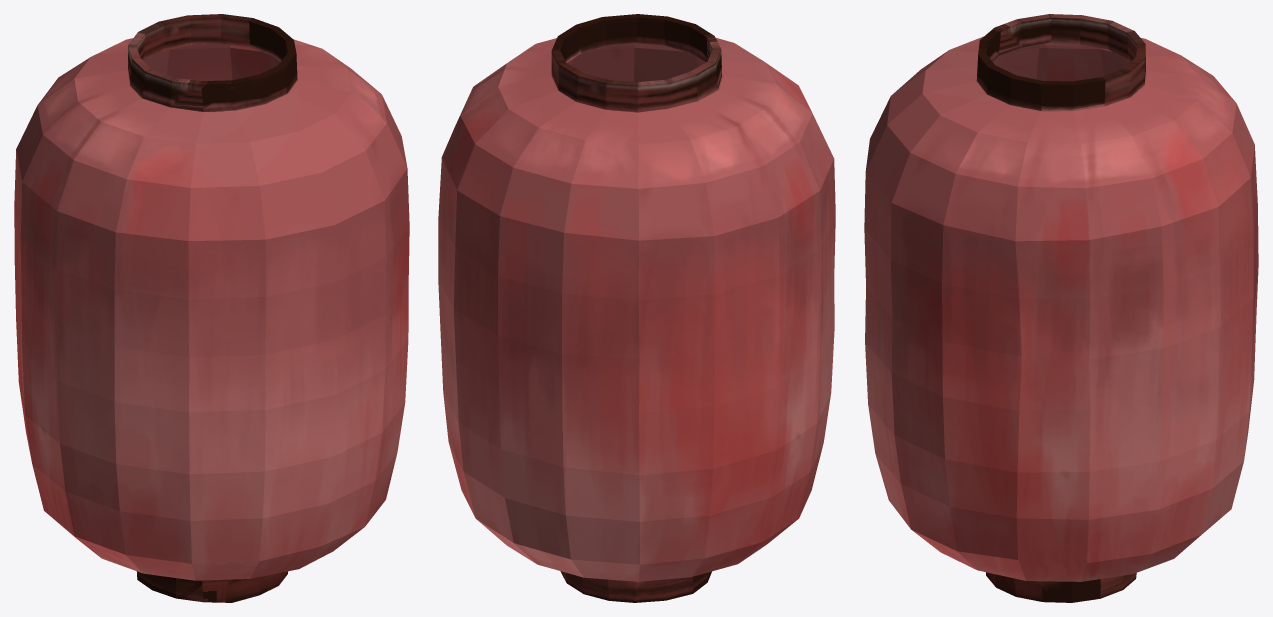
The model's file is lantern2.dae.
3 views of the same model, side by side, from view 1: azimuth 30°, elevation 25°; view 2: azimuth 150°, elevation 25°; view 3: azimuth 270°, elevation 25° (orthographic).
Parts seen in each view (by area): view 1: lantern_polySurface2; view 2: lantern_polySurface2; view 3: lantern_polySurface2.
Boxes of the visible parts, bbox=[...] form: lantern_polySurface2: bbox=[14, 14, 409, 602]; lantern_polySurface2: bbox=[438, 14, 835, 602]; lantern_polySurface2: bbox=[864, 14, 1258, 602].
Bounding box in the file's own units: 18.27 × 26.68 × 18.25.
